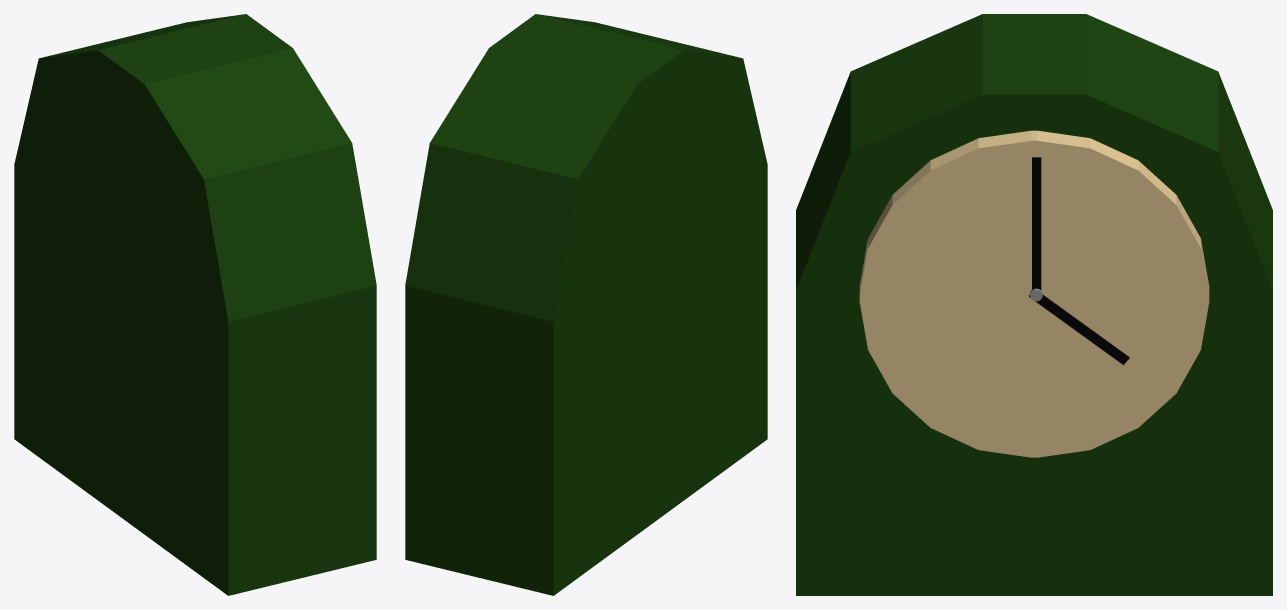
File: clock2.fbx
The picture shows the model from 3 angles, left to right: view 1: azimuth 30°, elevation 25°; view 2: azimuth 150°, elevation 25°; view 3: azimuth 270°, elevation 25°; orthographic projection. The views are drawn at different scales.
Visible parts, largest first — view 1: Cube; view 2: Cube; view 3: Cube, Cube.001, Cube.002, Cube.003.
Boxes of the visible parts, box(x1,y1,x2,y2) form: Cube: box(14, 14, 376, 595); Cube: box(405, 14, 767, 595); Cube: box(796, 14, 1272, 595); Cube.001: box(859, 130, 1209, 457); Cube.002: box(1032, 157, 1041, 290); Cube.003: box(1029, 295, 1129, 364).
Bounding box in the file's own units: 13.89 × 34.8 × 30.
